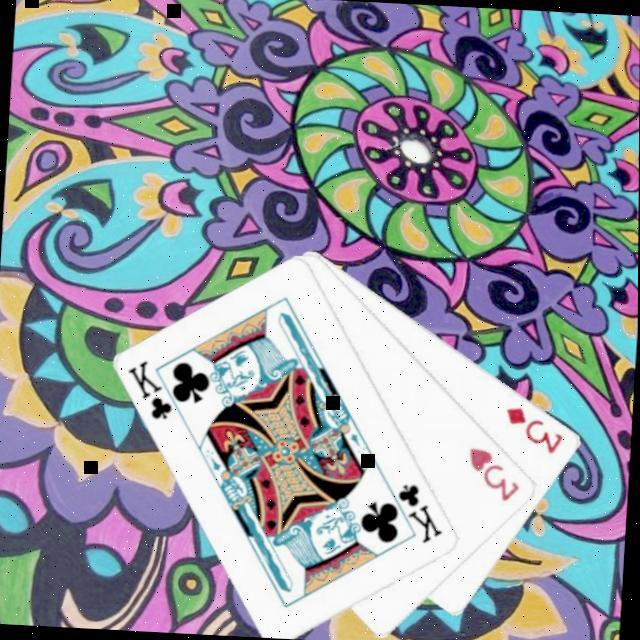3D: (500, 402, 569, 456)
3H: (463, 442, 525, 505)
KC: (121, 356, 190, 424), (381, 478, 449, 546)
